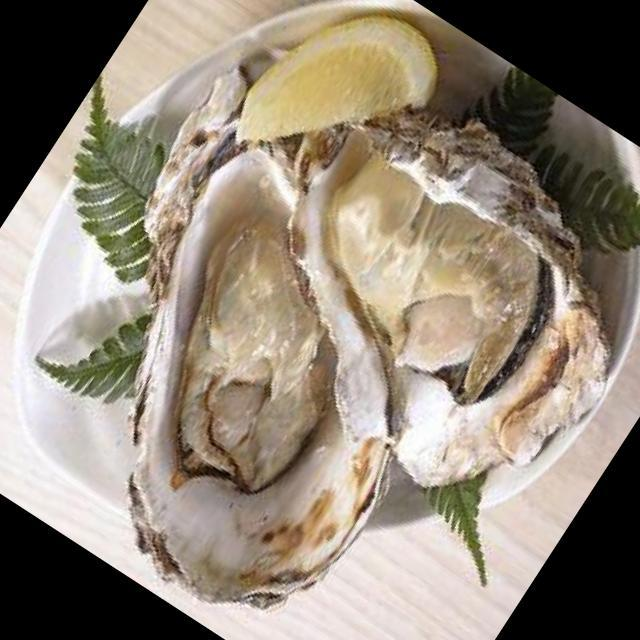Oyster-Open: (0, 52, 539, 640), (172, 46, 640, 547)
